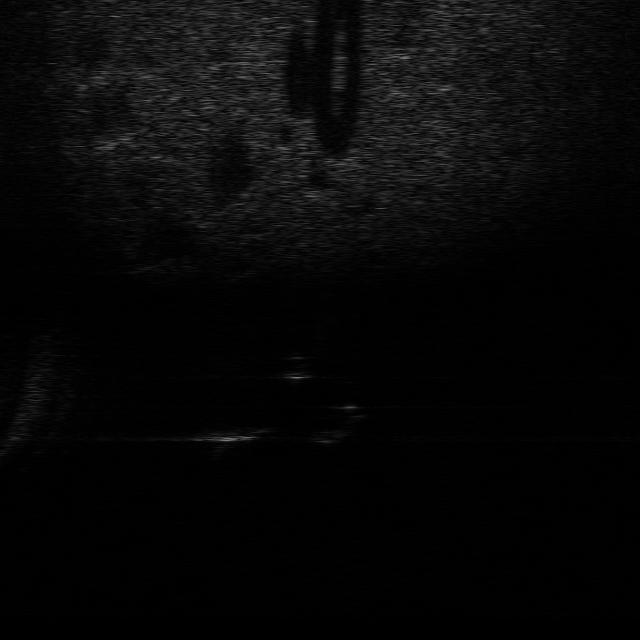ball: (268, 351, 318, 387)
square cage: (189, 422, 271, 455)
tyre: (302, 400, 370, 446)
